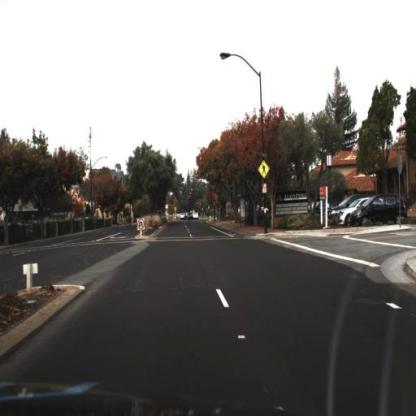car: (347, 193, 408, 228), (333, 197, 374, 227)
